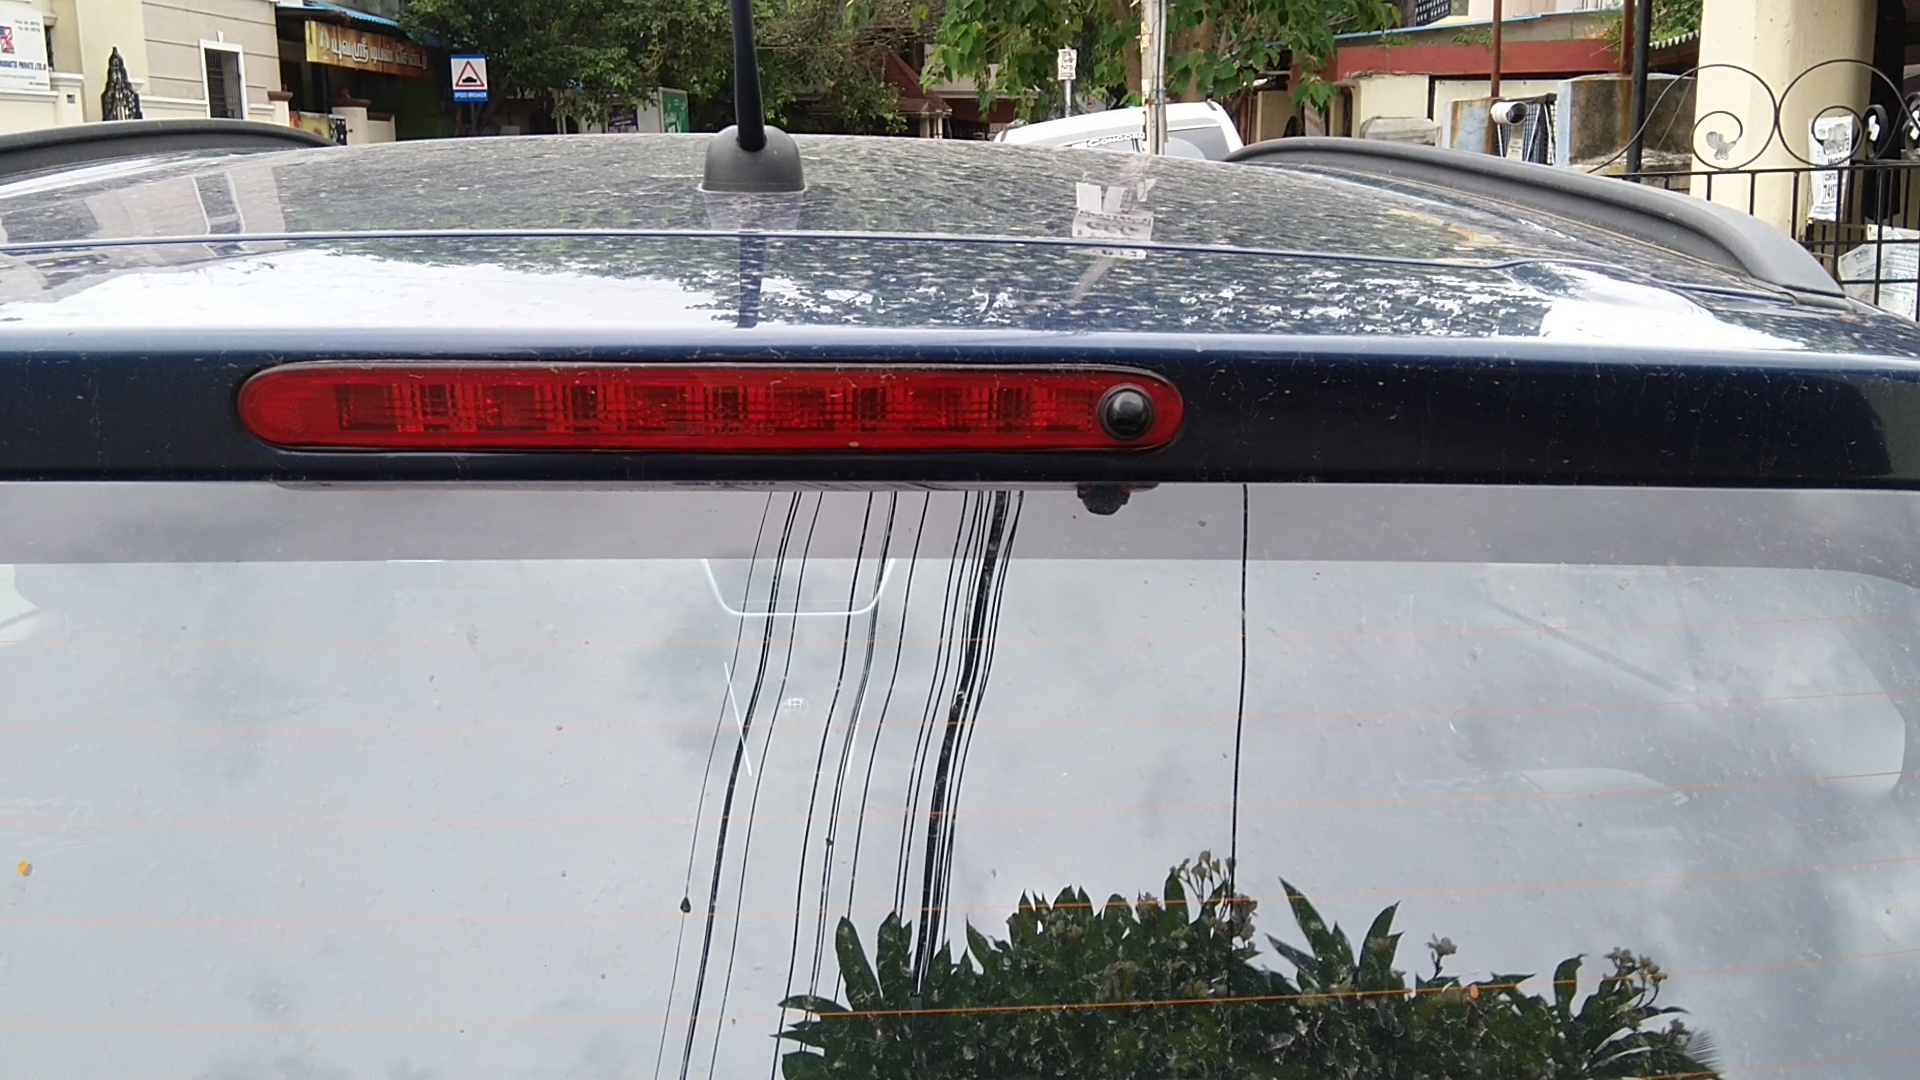rear_camera: (1083, 363, 1179, 462)
